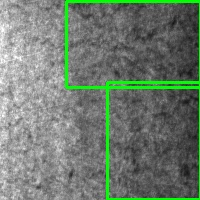crazing: (66, 1, 200, 87), (107, 82, 200, 199)
